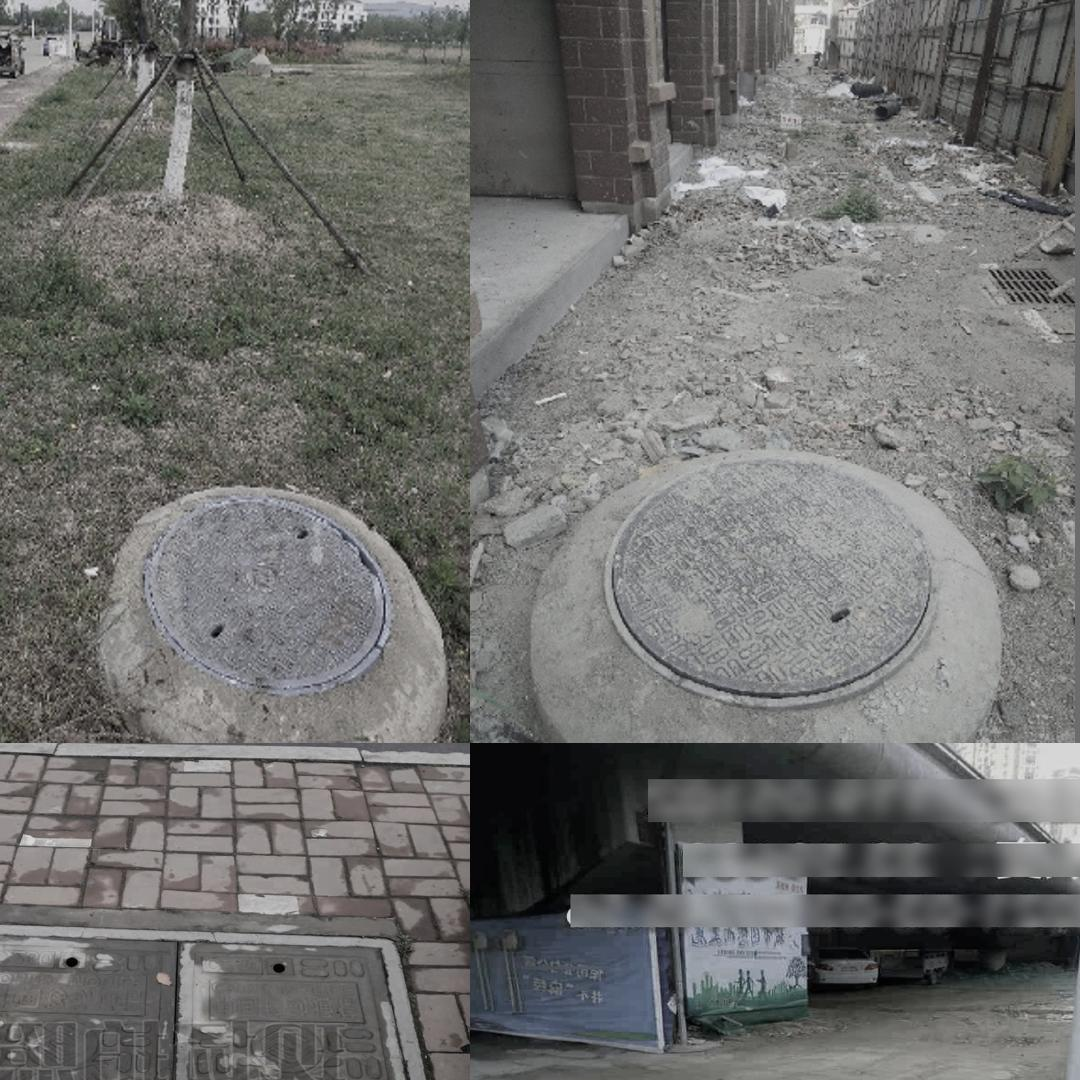good: (603, 459, 938, 706), (0, 923, 447, 1080), (139, 483, 394, 693)
